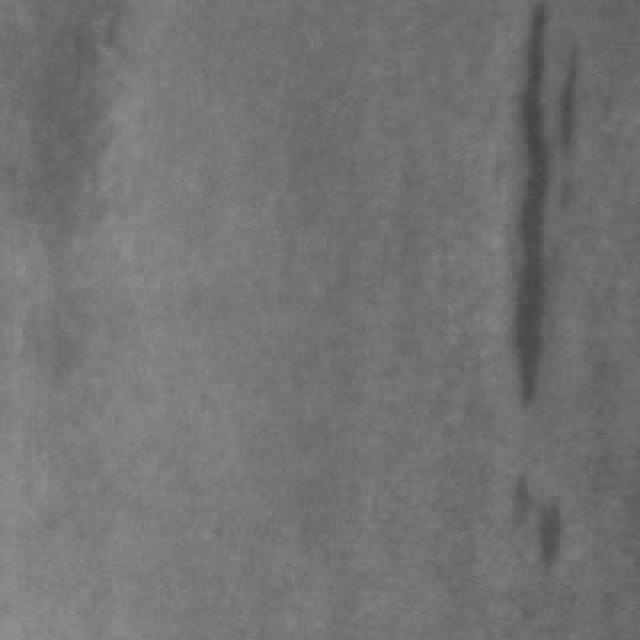inclusion: (492, 0, 586, 413), (493, 454, 563, 573)
